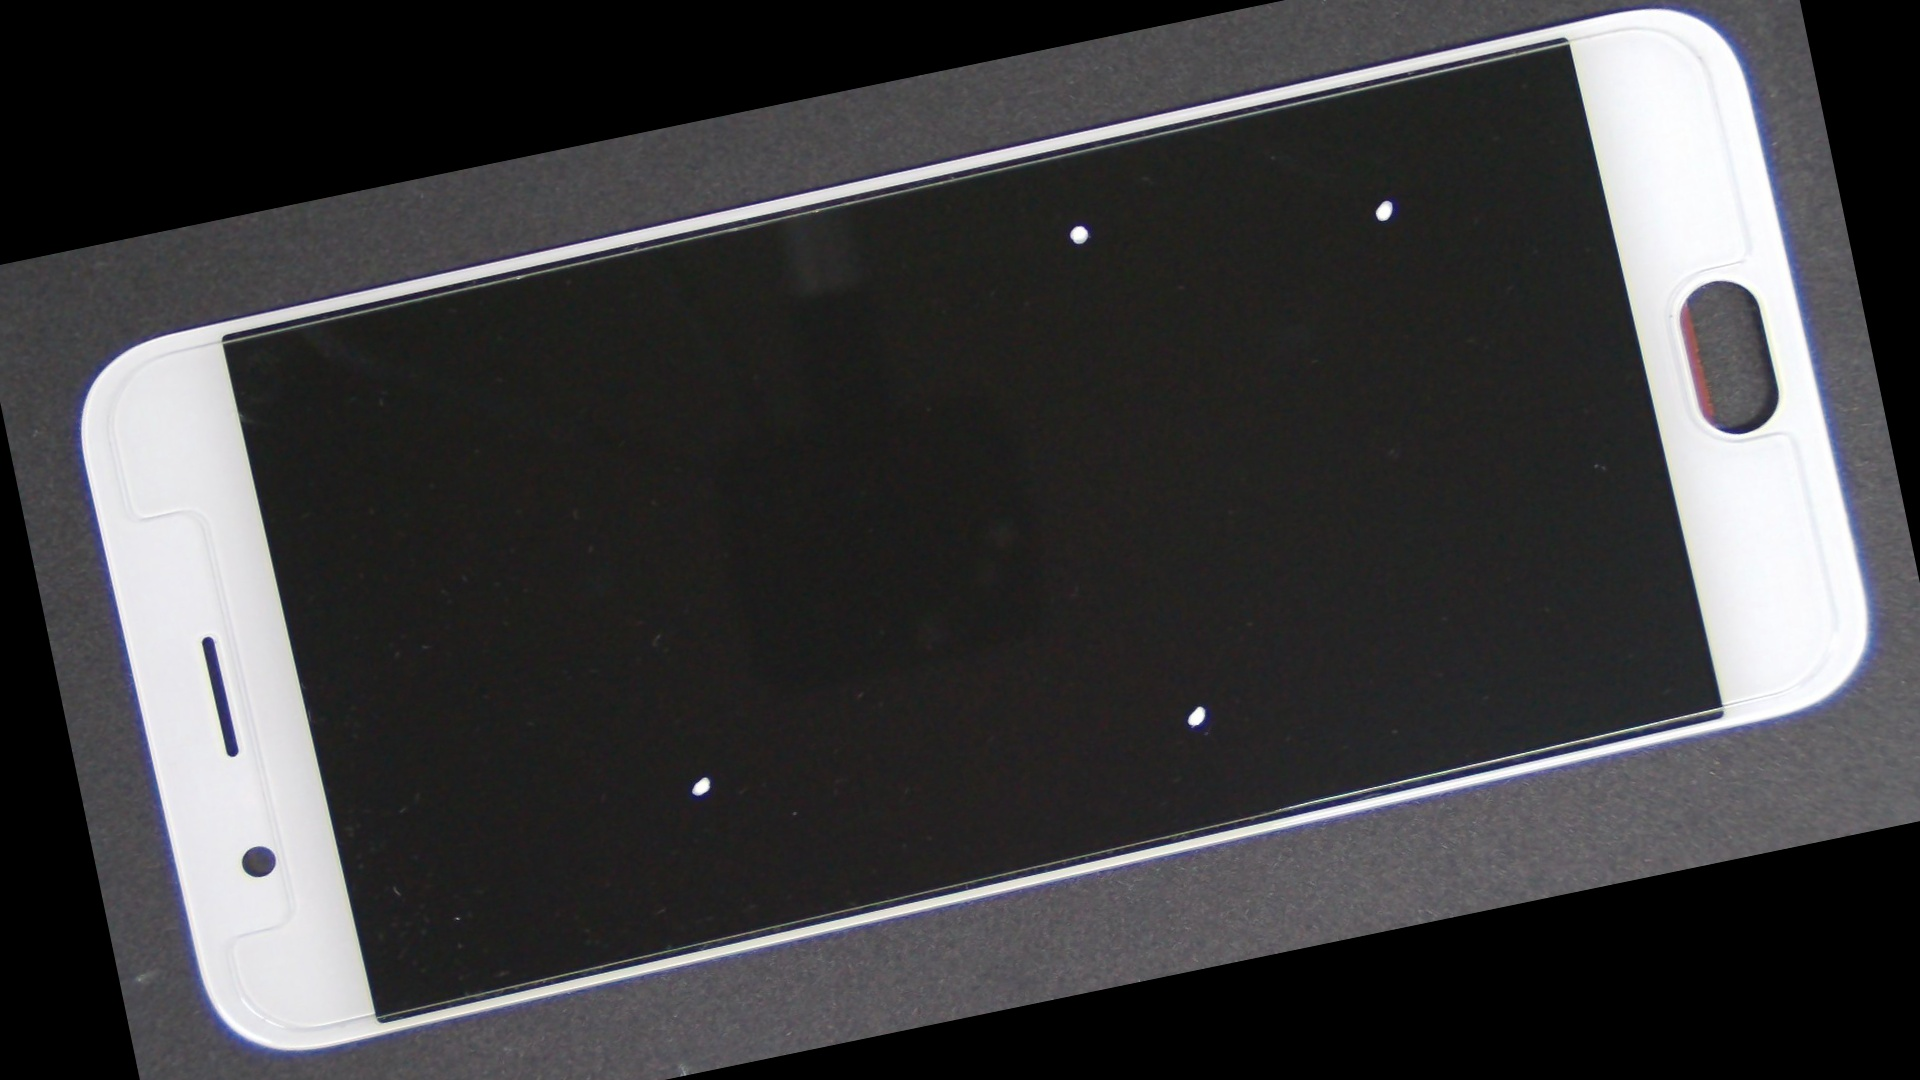oil: (587, 262, 1797, 1071), (680, 3, 1844, 446), (338, 400, 1059, 1080), (525, 28, 1626, 422)
